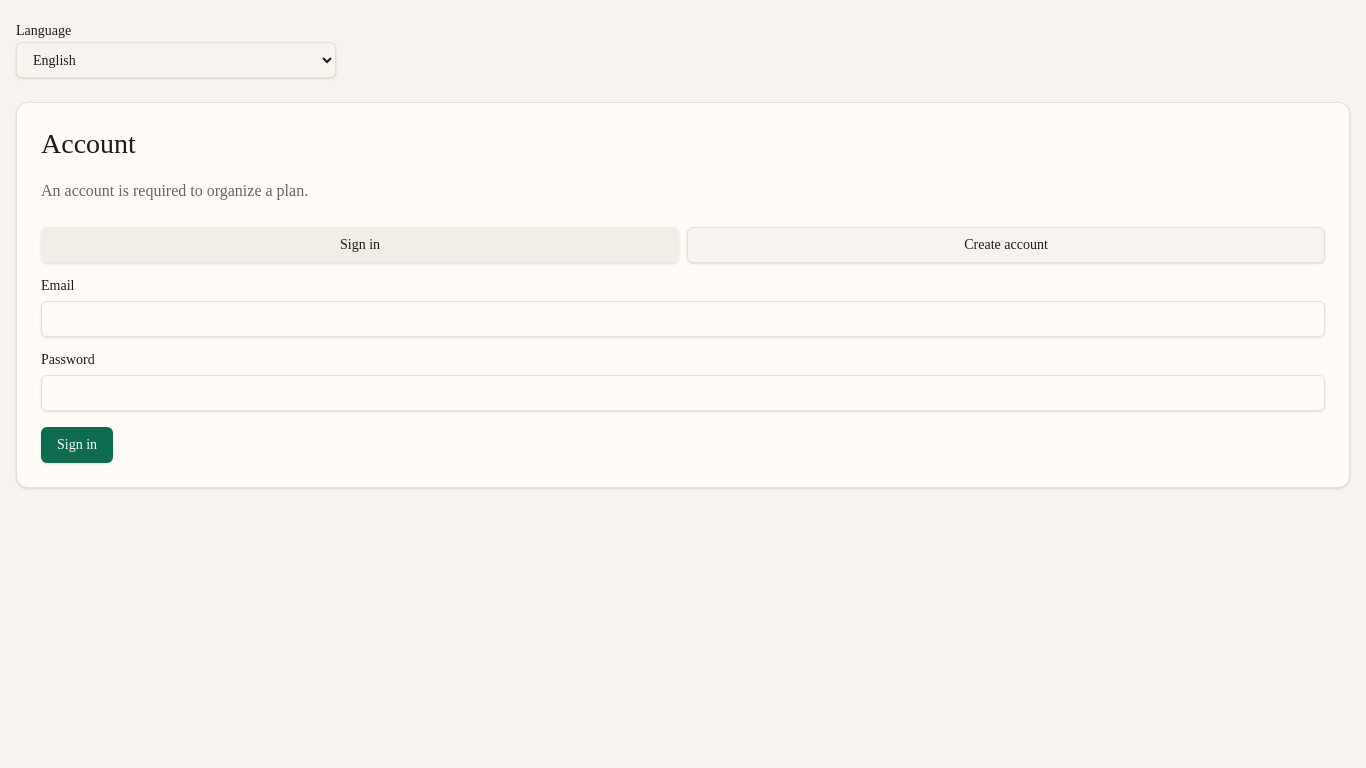
Scenario: AccountGate › keeps a failed registration on the gate, signed out, with non-secret values and text-destructive
The image size is (1366, 768).
Expected: the text "An account is required to organize a plan." is shown, [41,182,308,199]
Click the tab "Create account": (1006, 245) [687,227,1325,263]
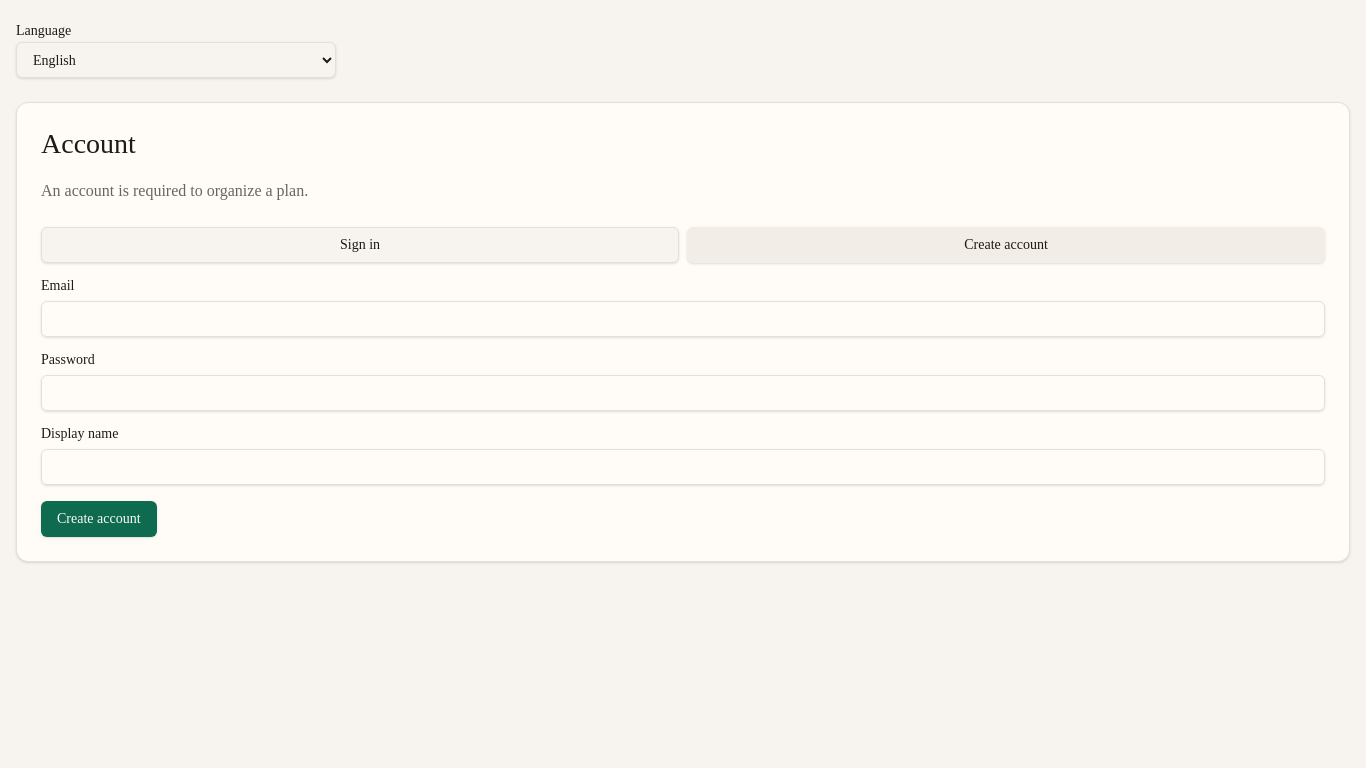
In the field labelled "Email": (683, 319) [41,301,1325,337], type "nour@example.com"
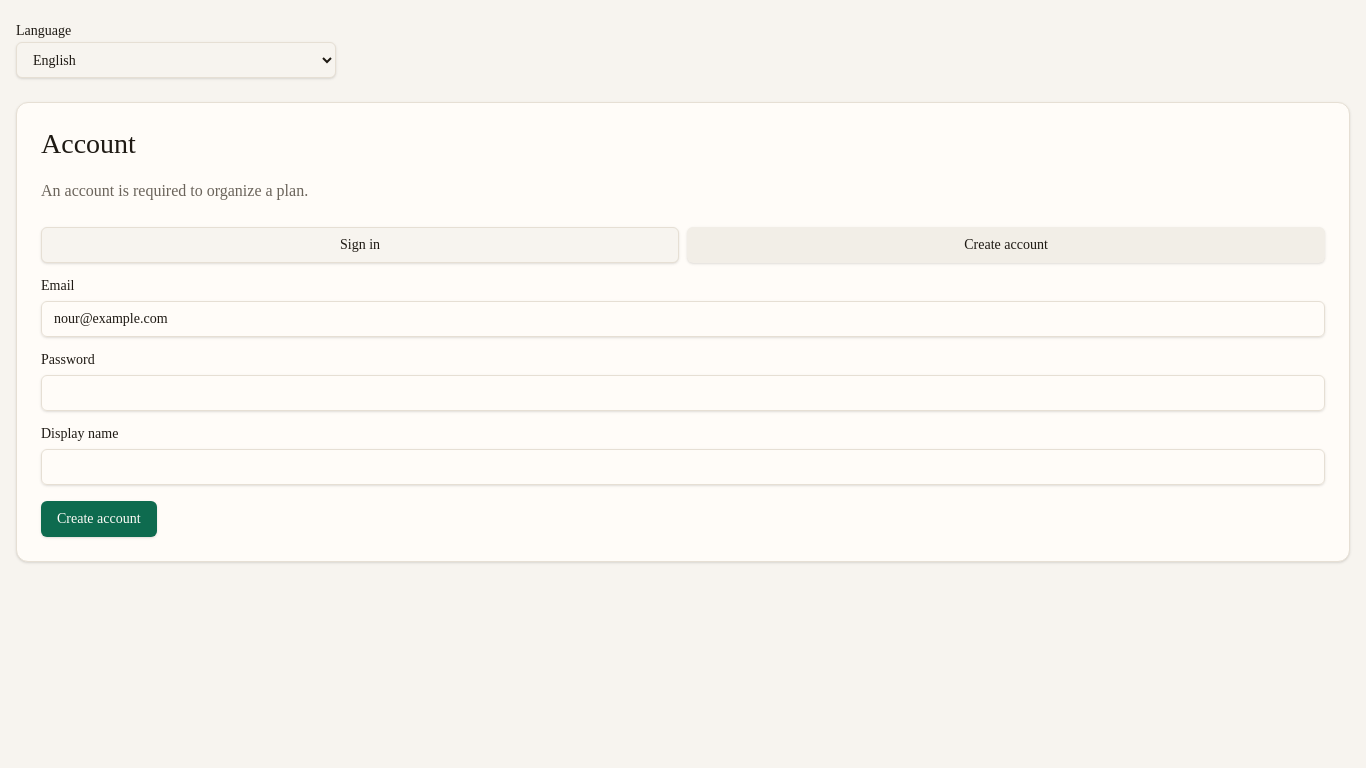
In the password field labelled "Password": (683, 393) [41,375,1325,411], type "a-secret-pass"
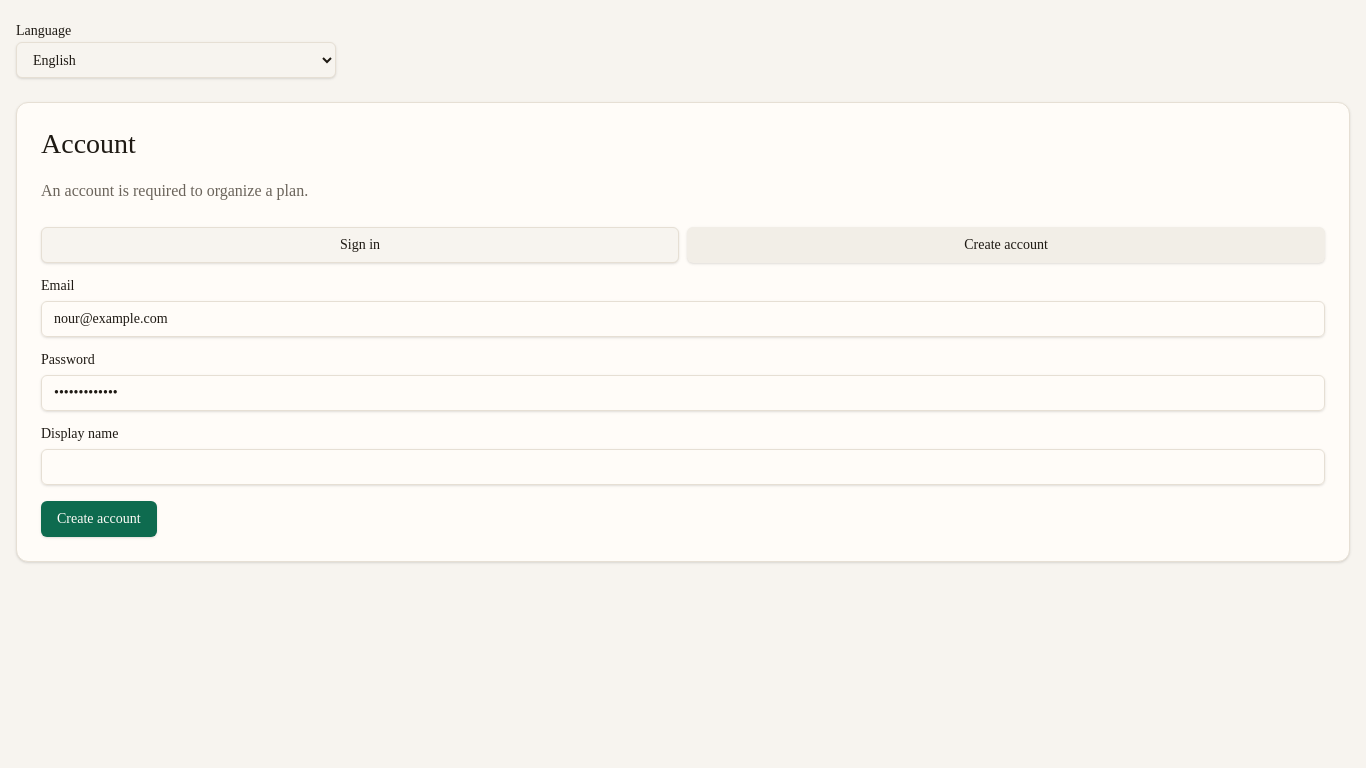
In the field labelled "Display name": (683, 467) [41,449,1325,485], type "Nour"
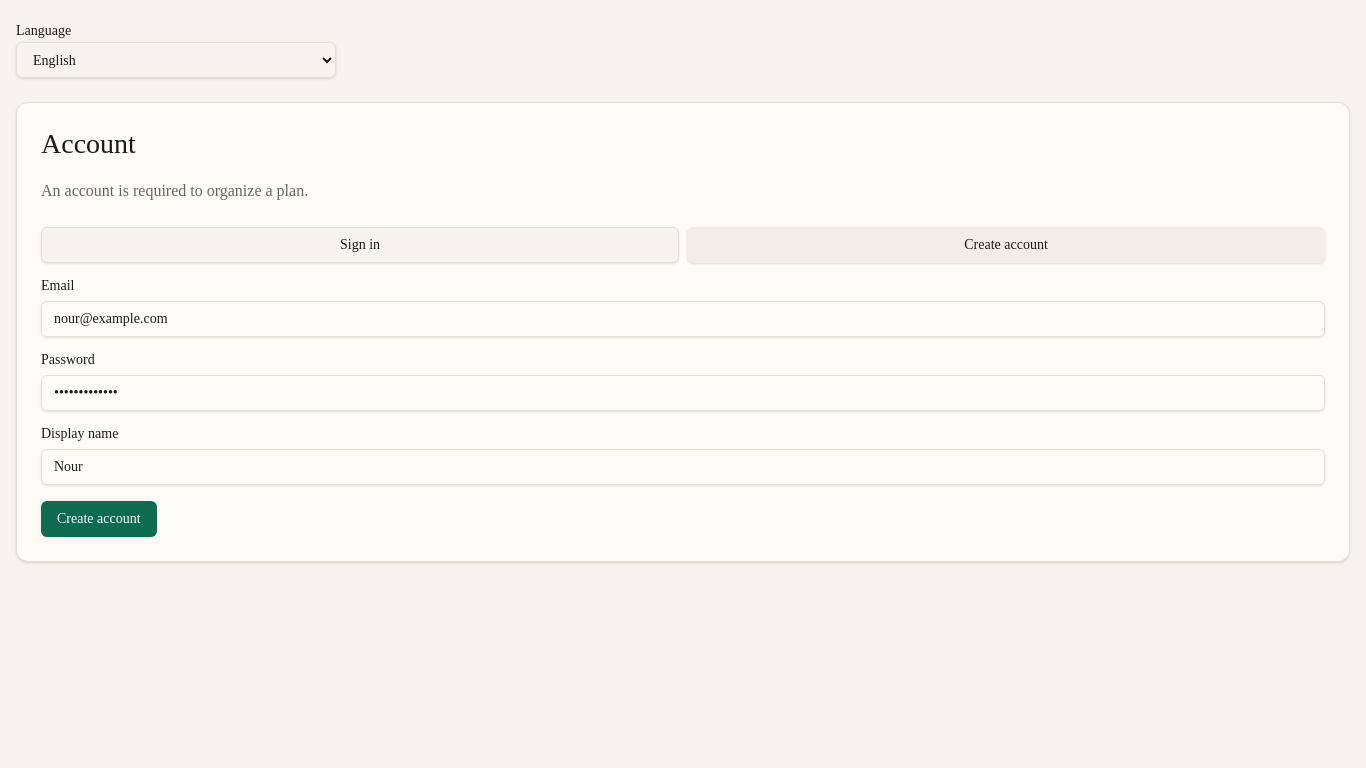
Click the button "Create account": (99, 519) [41,501,157,537]
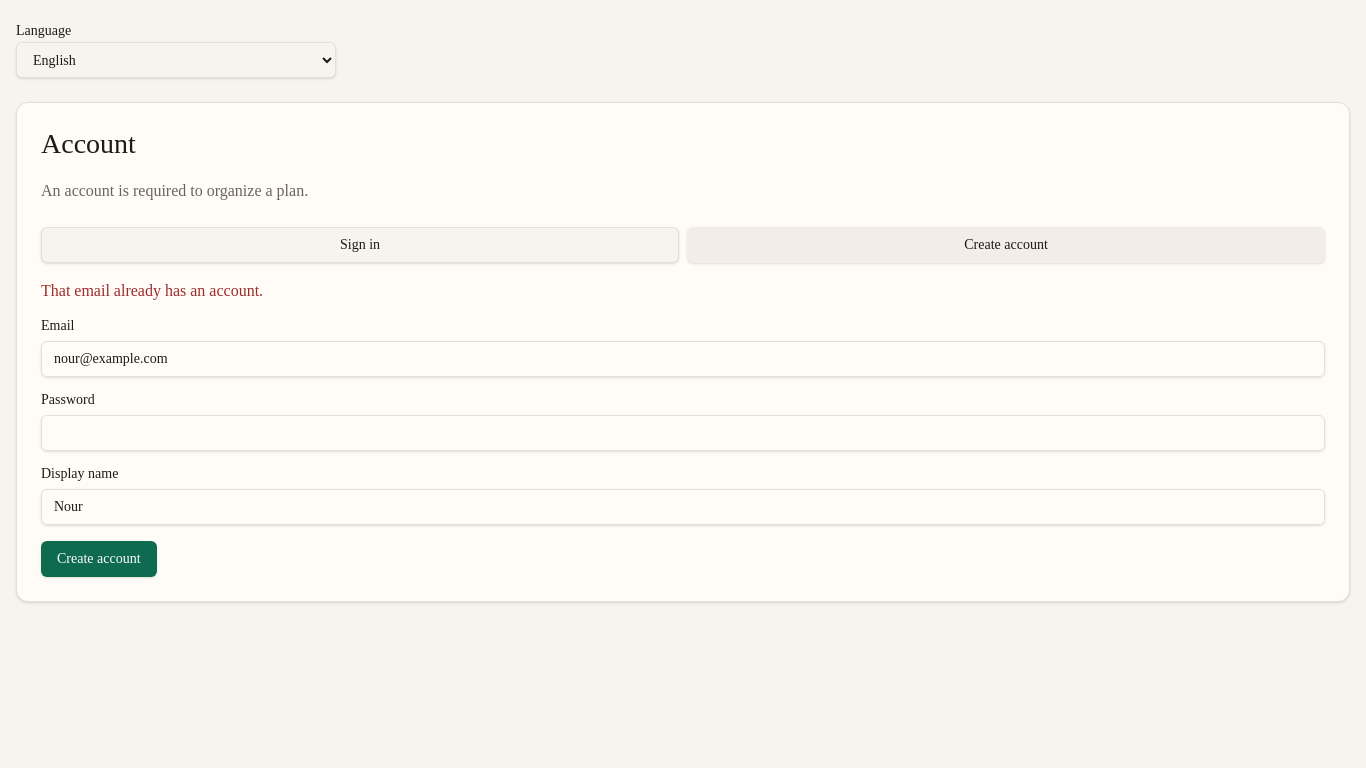
Expected: the message reads "That email already has an account.", [41,282,263,299]
Expected: the password field labelled "Password" is empty, [41,415,1325,451]
